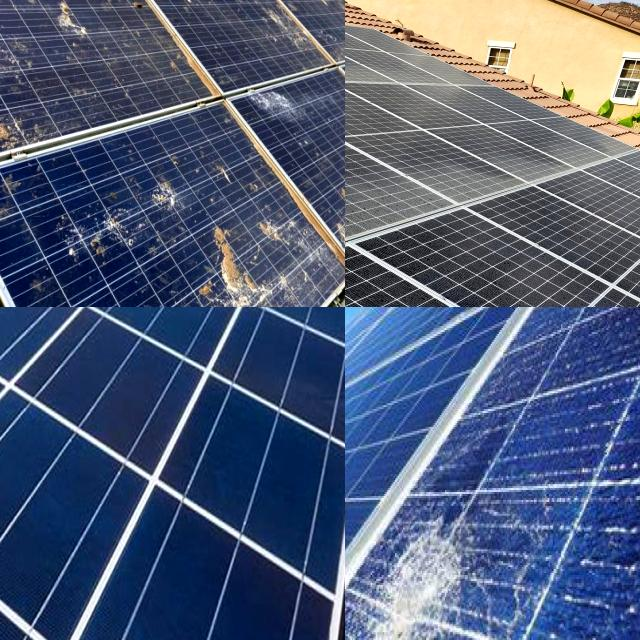bird: (199, 227, 266, 307), (48, 0, 102, 57), (245, 82, 304, 128), (0, 27, 35, 94), (0, 102, 46, 144), (157, 0, 213, 33), (0, 67, 23, 140), (149, 161, 171, 233), (324, 180, 345, 255), (0, 0, 35, 34), (130, 0, 142, 34)
crack: (0, 307, 345, 640)
dust: (453, 208, 623, 307), (345, 173, 463, 253)
hotspot: (345, 507, 486, 640), (520, 511, 582, 640)
